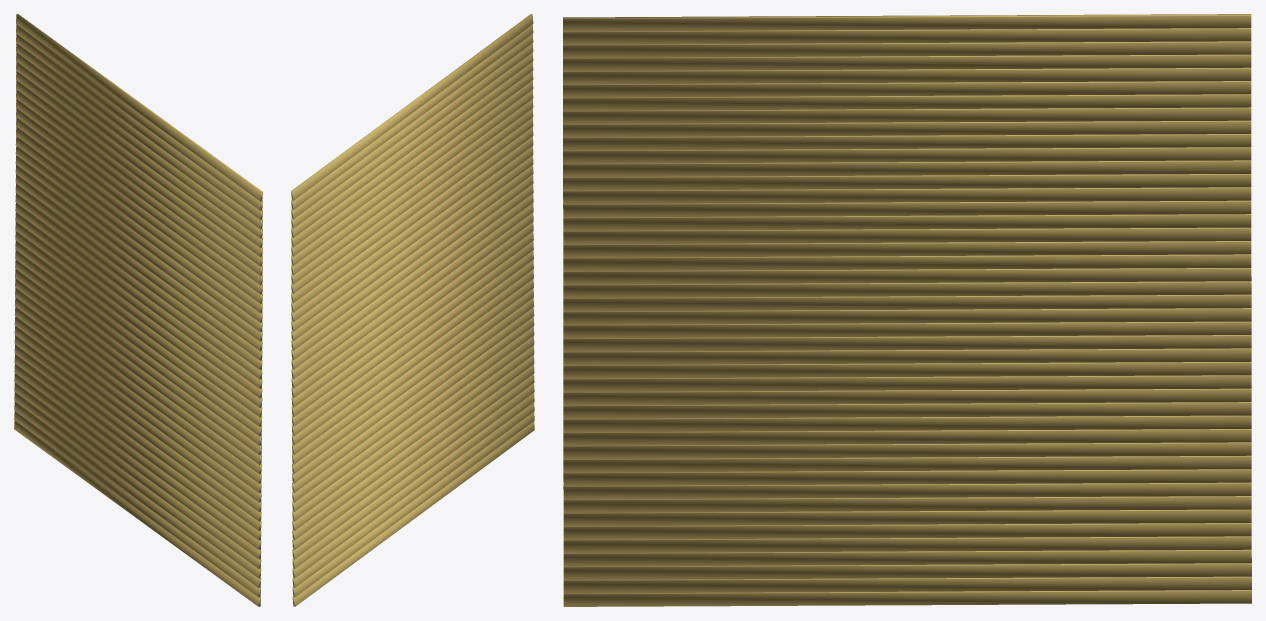
Rendered from Wand.fbx.
3 views of the same model, side by side, from view 1: azimuth 30°, elevation 25°; view 2: azimuth 150°, elevation 25°; view 3: azimuth 270°, elevation 25° (orthographic). The views are drawn at different scales.
Visible parts, largest first — view 1: Wand.065, Wand.117, Wand.132, Wand.133, Wand.111, Wand.114, Wand.115, Wand.118, Wand.119, Wand.120, Wand.130, Wand.134 (+32 smaller); view 2: Wand.065, Wand.136, Wand.112, Wand.135, Wand.137, Wand.114, Wand.118, Wand.133, Wand.138, Wand.110, Wand.111, Wand.116 (+32 smaller); view 3: Wand.065, Wand.109, Wand.143, Wand.117, Wand.129, Wand.138, Wand.115, Wand.124, Wand.134, Wand.131, Wand.122, Wand.127 (+32 smaller).
Boxes of the visible parts, box(x1,y1,x2,y2) form: Wand.065: box(16, 14, 262, 201); Wand.117: box(14, 344, 261, 531); Wand.132: box(15, 202, 262, 388); Wand.133: box(15, 193, 262, 379); Wand.111: box(14, 401, 261, 587); Wand.114: box(14, 373, 261, 559); Wand.115: box(14, 363, 261, 549); Wand.118: box(14, 335, 261, 521); Wand.119: box(14, 326, 261, 512); Wand.120: box(14, 316, 261, 502); Wand.130: box(15, 221, 262, 407); Wand.134: box(15, 183, 262, 370); Wand.065: box(291, 14, 533, 200); Wand.136: box(291, 165, 533, 350); Wand.112: box(292, 393, 534, 578); Wand.135: box(291, 174, 533, 360); Wand.137: box(291, 155, 533, 340); Wand.114: box(292, 374, 534, 559); Wand.118: box(292, 335, 534, 521); Wand.133: box(291, 193, 533, 378); Wand.138: box(291, 146, 533, 331); Wand.110: box(292, 411, 534, 597); Wand.111: box(292, 402, 534, 587); Wand.116: box(292, 355, 534, 540); Wand.065: box(563, 14, 1251, 31); Wand.109: box(563, 590, 1251, 606); Wand.143: box(563, 160, 1251, 177); Wand.117: box(563, 482, 1251, 499); Wand.129: box(563, 321, 1251, 338); Wand.138: box(563, 200, 1251, 217); Wand.115: box(563, 509, 1251, 526); Wand.124: box(563, 388, 1251, 405); Wand.134: box(563, 254, 1251, 271); Wand.131: box(563, 294, 1251, 311); Wand.122: box(563, 415, 1251, 432); Wand.127: box(563, 348, 1251, 365).
Size of the model in its own units: 11.28 by 656 by 692.
